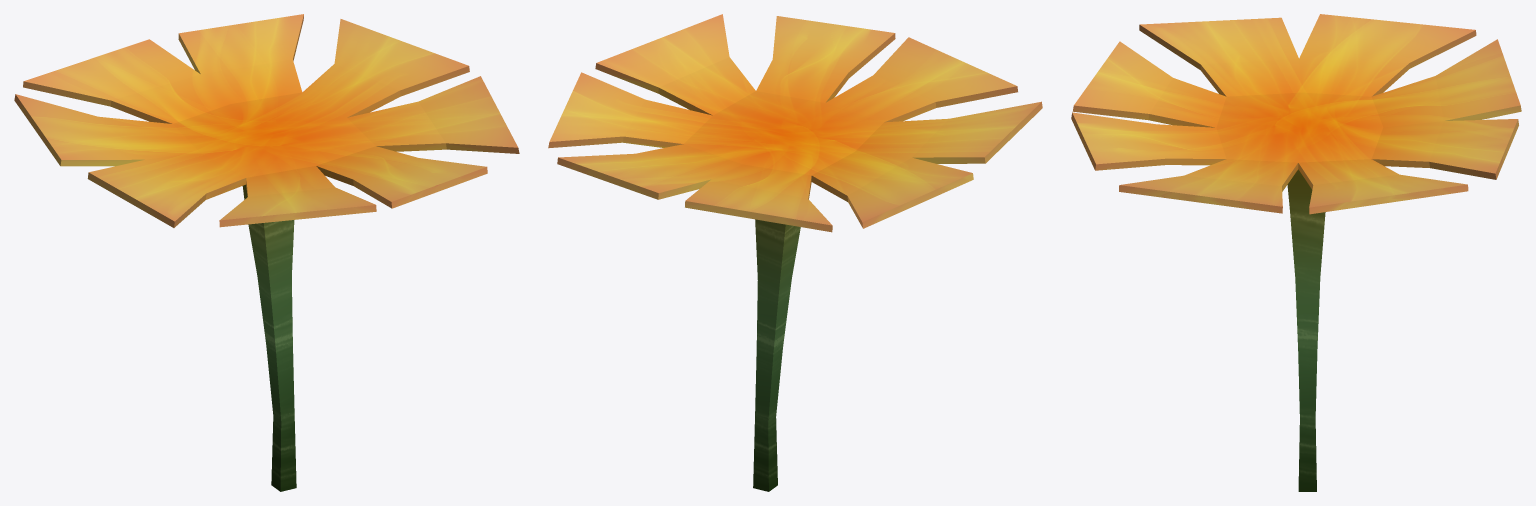
The model's file is GiantFlower001.fbx.
3 views of the same model, side by side, from view 1: azimuth 30°, elevation 25°; view 2: azimuth 150°, elevation 25°; view 3: azimuth 270°, elevation 25° (orthographic).
Visible parts, largest first — view 1: GiantFlower001; view 2: GiantFlower001; view 3: GiantFlower001.
Part boxes in pixels (<box>): GiantFlower001: <box>14,14,519,491</box>; GiantFlower001: <box>548,14,1042,491</box>; GiantFlower001: <box>1071,14,1521,491</box>.
Bounding box in the file's own units: 25.94 × 23.01 × 25.4.
